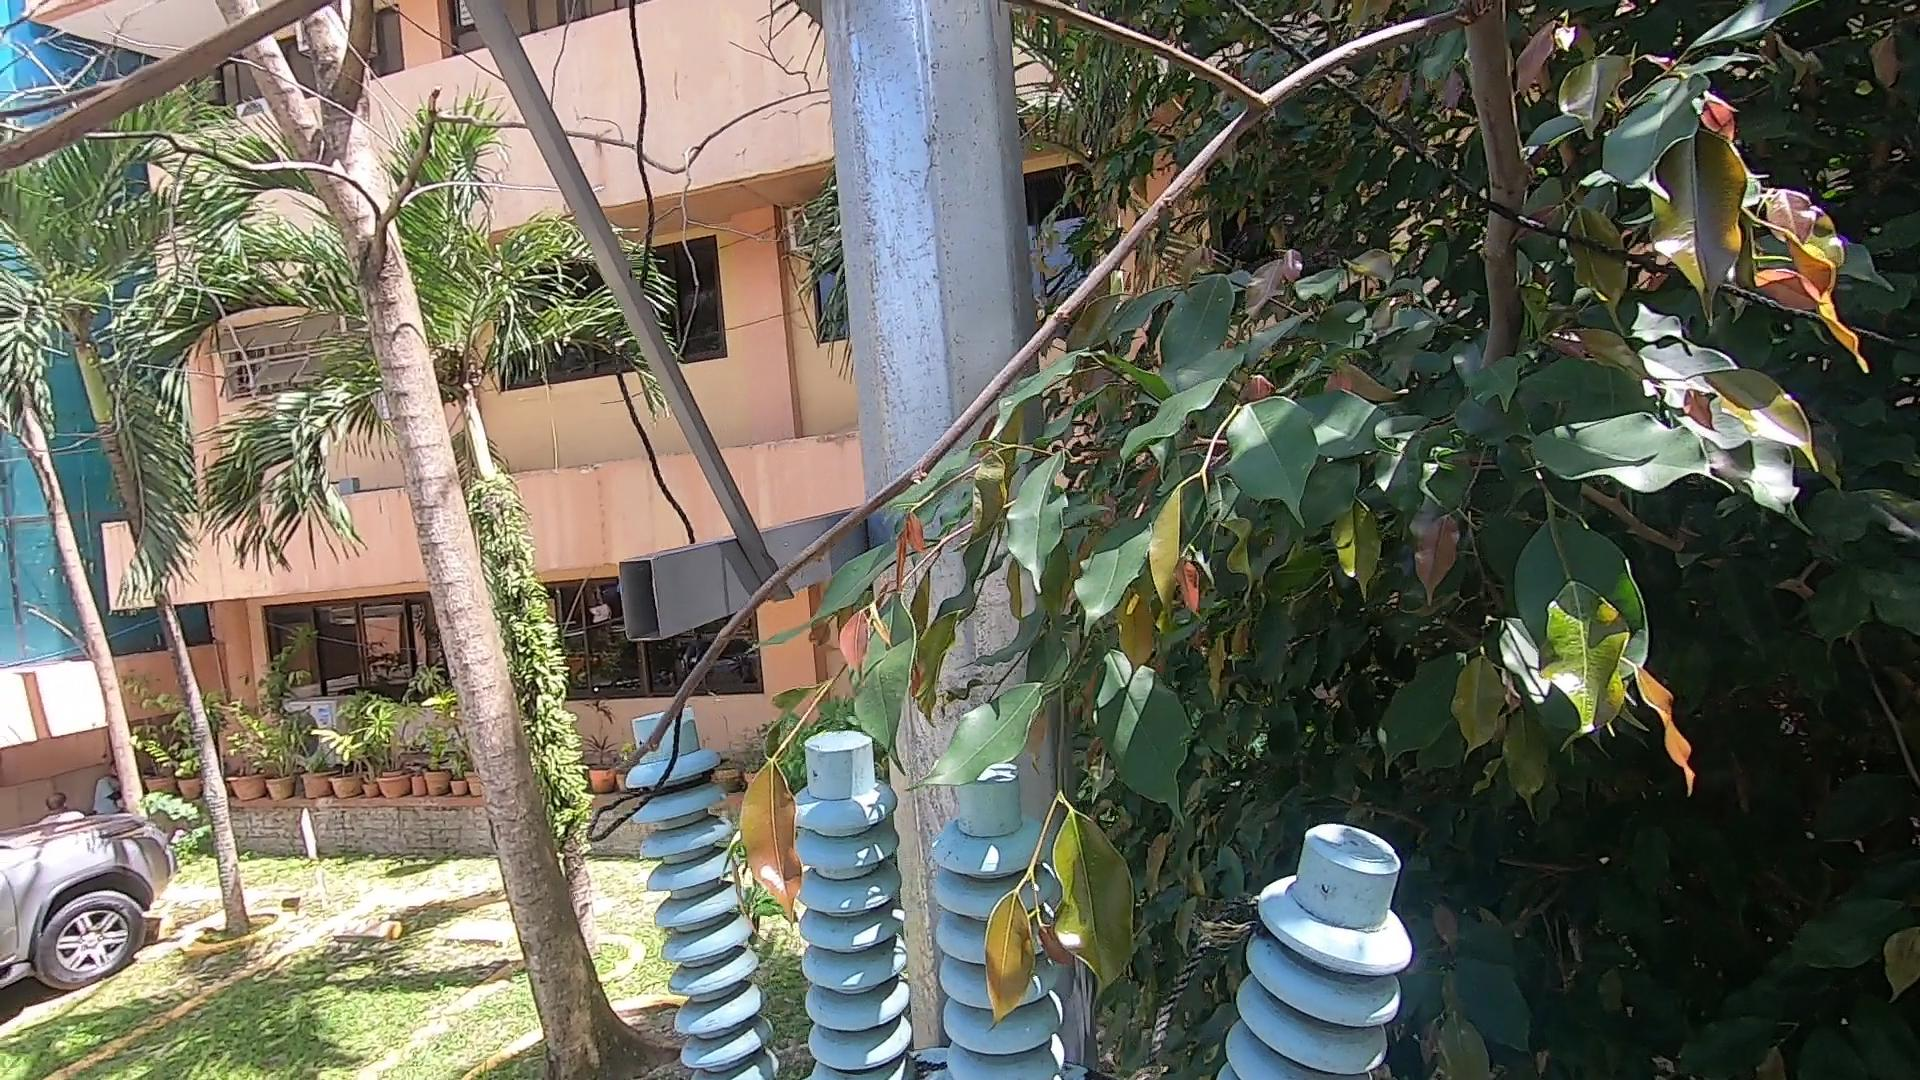tree branch: (611, 1, 1548, 811)
